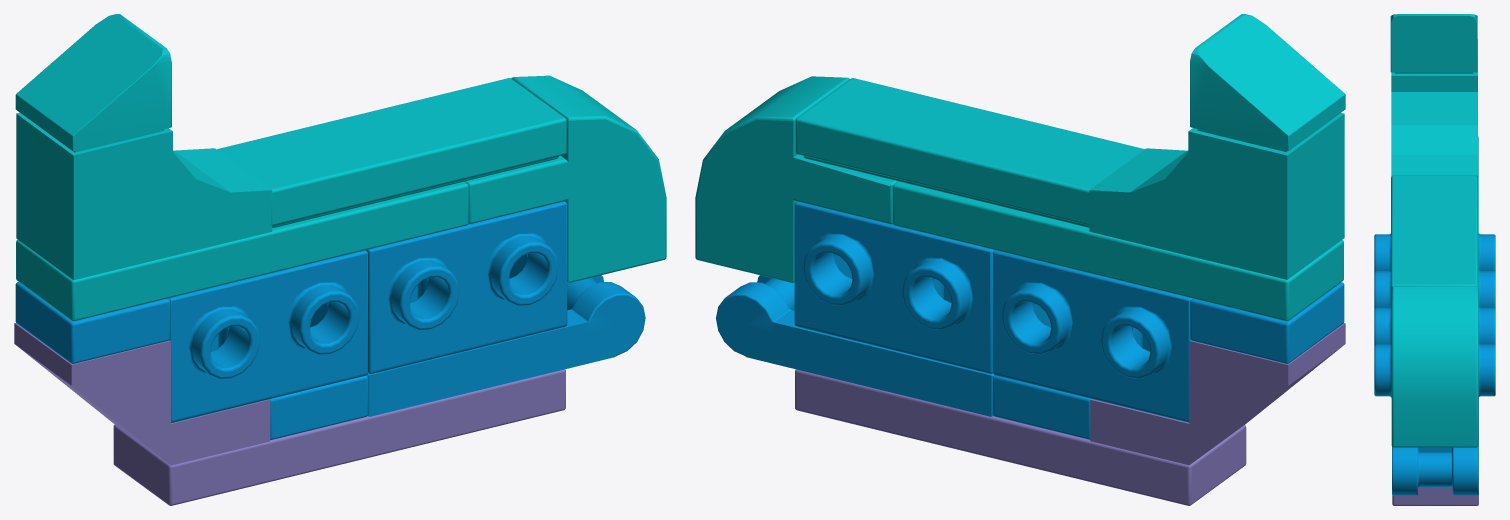
Rendered from Passo 52.fbx.
The picture shows the model from 3 angles, left to right: view 1: azimuth 30°, elevation 25°; view 2: azimuth 150°, elevation 25°; view 3: azimuth 270°, elevation 25°; orthographic projection. The views are drawn at different scales.
Parts seen in each view (by area): view 1: Brick_curved_1x2.015, Tile_1x3, Brick_special_2x2.002, Brick_special_2x2__1_.002, Brick_cuved_1x2x1.014, Plate_1x4.035, Plate_1x4_1.002, Slope_1x1.022, Plate_special_2x1.004, Slope_2x1.003, Plate_1x1.003, Plate_1x1_1.002; view 2: Brick_curved_1x2.015, Tile_1x3, Brick_special_2x2.002, Brick_special_2x2__1_.002, Brick_cuved_1x2x1.014, Plate_1x4.035, Plate_1x4_1.002, Slope_1x1.022, Plate_special_2x1.004, Slope_2x1.003, Plate_1x1.003, Plate_1x1_1.002; view 3: Brick_cuved_1x2x1.014, Tile_1x3, Brick_curved_1x2.015, Slope_1x1.022, Plate_special_2x1.004, Brick_special_2x2.002, Brick_special_2x2__1_.002, Plate_1x4_1.002.
Part boxes in pixels (x1,y1,x2,y2): Brick_curved_1x2.015: [16, 112, 272, 280]; Tile_1x3: [217, 78, 566, 227]; Brick_special_2x2.002: [365, 201, 567, 373]; Brick_special_2x2__1_.002: [168, 250, 367, 422]; Brick_cuved_1x2x1.014: [464, 75, 666, 282]; Plate_1x4.035: [16, 181, 468, 321]; Plate_1x4_1.002: [113, 369, 565, 505]; Slope_1x1.022: [15, 14, 171, 152]; Plate_special_2x1.004: [367, 275, 645, 416]; Slope_2x1.003: [14, 323, 270, 465]; Plate_1x1.003: [15, 282, 169, 363]; Plate_1x1_1.002: [270, 375, 367, 439]; Brick_curved_1x2.015: [1089, 113, 1344, 279]; Tile_1x3: [795, 78, 1144, 227]; Brick_special_2x2.002: [794, 201, 995, 373]; Brick_special_2x2__1_.002: [993, 250, 1192, 422]; Brick_cuved_1x2x1.014: [695, 76, 897, 282]; Plate_1x4.035: [892, 181, 1343, 321]; Plate_1x4_1.002: [795, 369, 1246, 505]; Slope_1x1.022: [1190, 14, 1345, 152]; Plate_special_2x1.004: [716, 275, 994, 416]; Slope_2x1.003: [1090, 323, 1345, 465]; Plate_1x1.003: [1190, 282, 1344, 363]; Plate_1x1_1.002: [993, 375, 1090, 439]; Brick_cuved_1x2x1.014: [1391, 282, 1478, 447]; Tile_1x3: [1391, 176, 1477, 310]; Brick_curved_1x2.015: [1391, 39, 1477, 177]; Slope_1x1.022: [1390, 14, 1477, 73]; Plate_special_2x1.004: [1392, 445, 1478, 495]; Brick_special_2x2.002: [1374, 307, 1495, 397]; Brick_special_2x2__1_.002: [1374, 233, 1495, 308]; Plate_1x4_1.002: [1392, 397, 1478, 505].
Bounding box in the file's own units: 0.4798 × 0.351 × 0.112.
